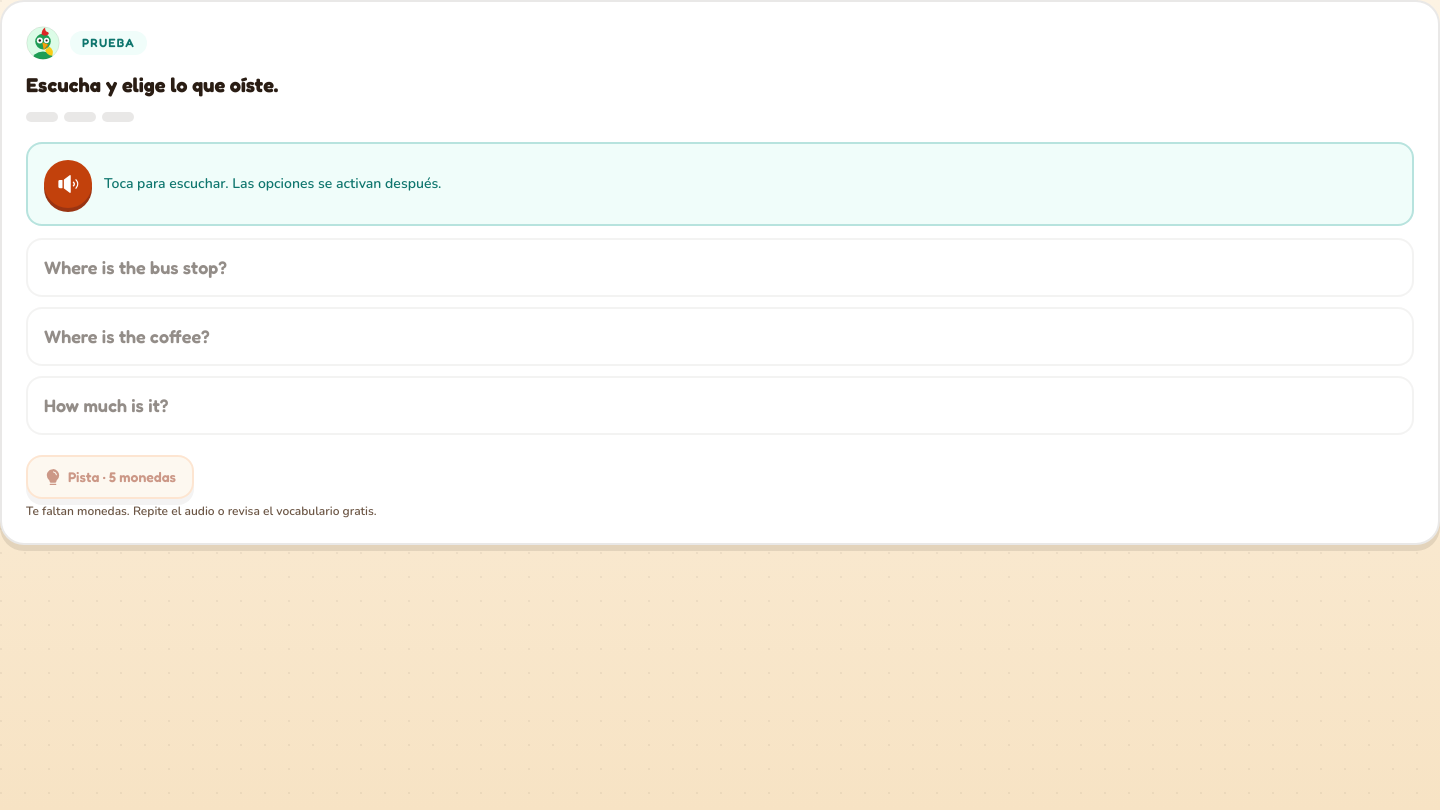
Scenario: ListenChallenge › keeps options disabled until the phrase is played
The image size is (1440, 810).
Expected: the button "Where is the bus stop?" is disabled, [26,238,1414,296]
What coordinates should you click on to do the following:
click the button named "Reproducir la frase"
I would click on:
 (68, 184)
Its box is [44,160,92,208].
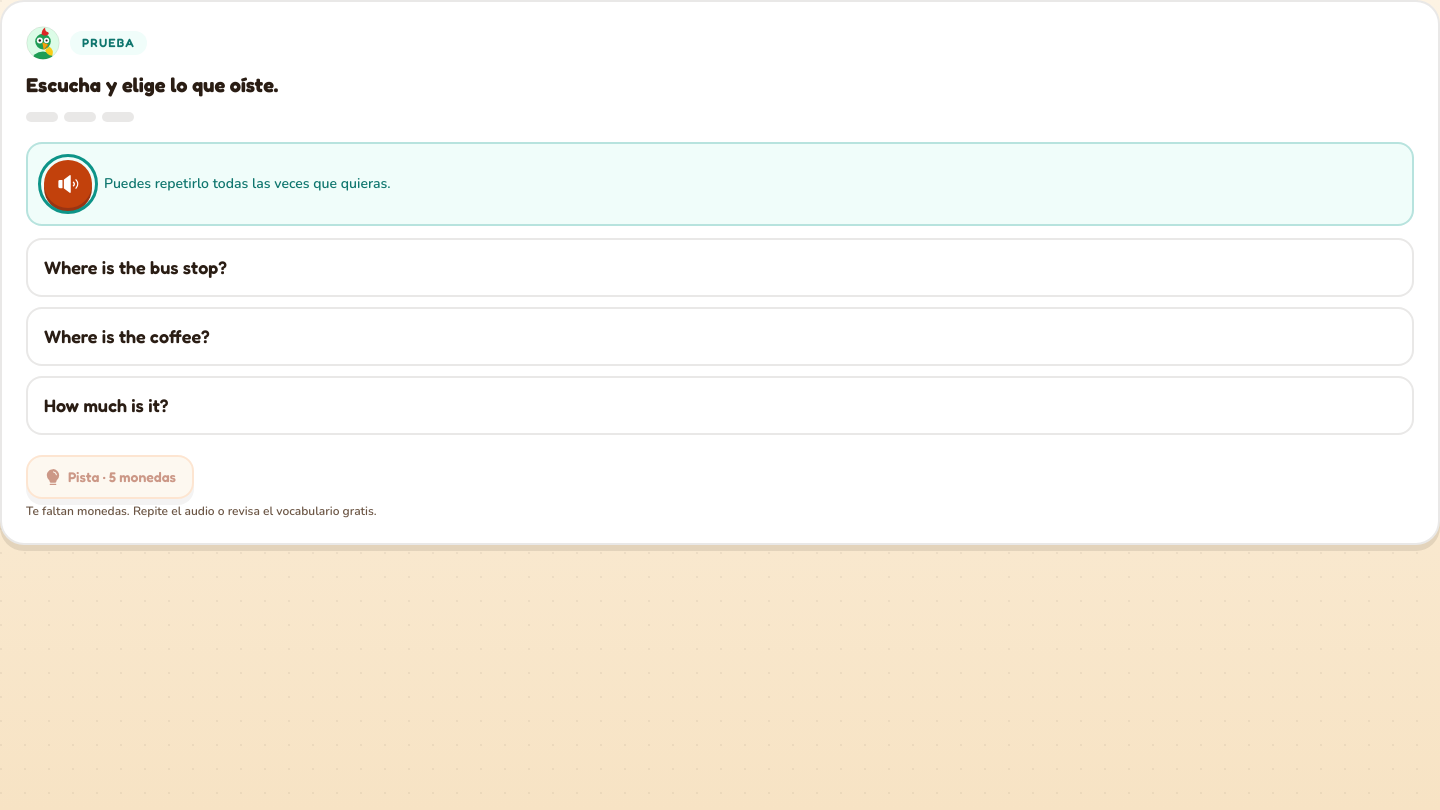
Expected: the button "Where is the bus stop?" is enabled, [26,238,1414,296]
